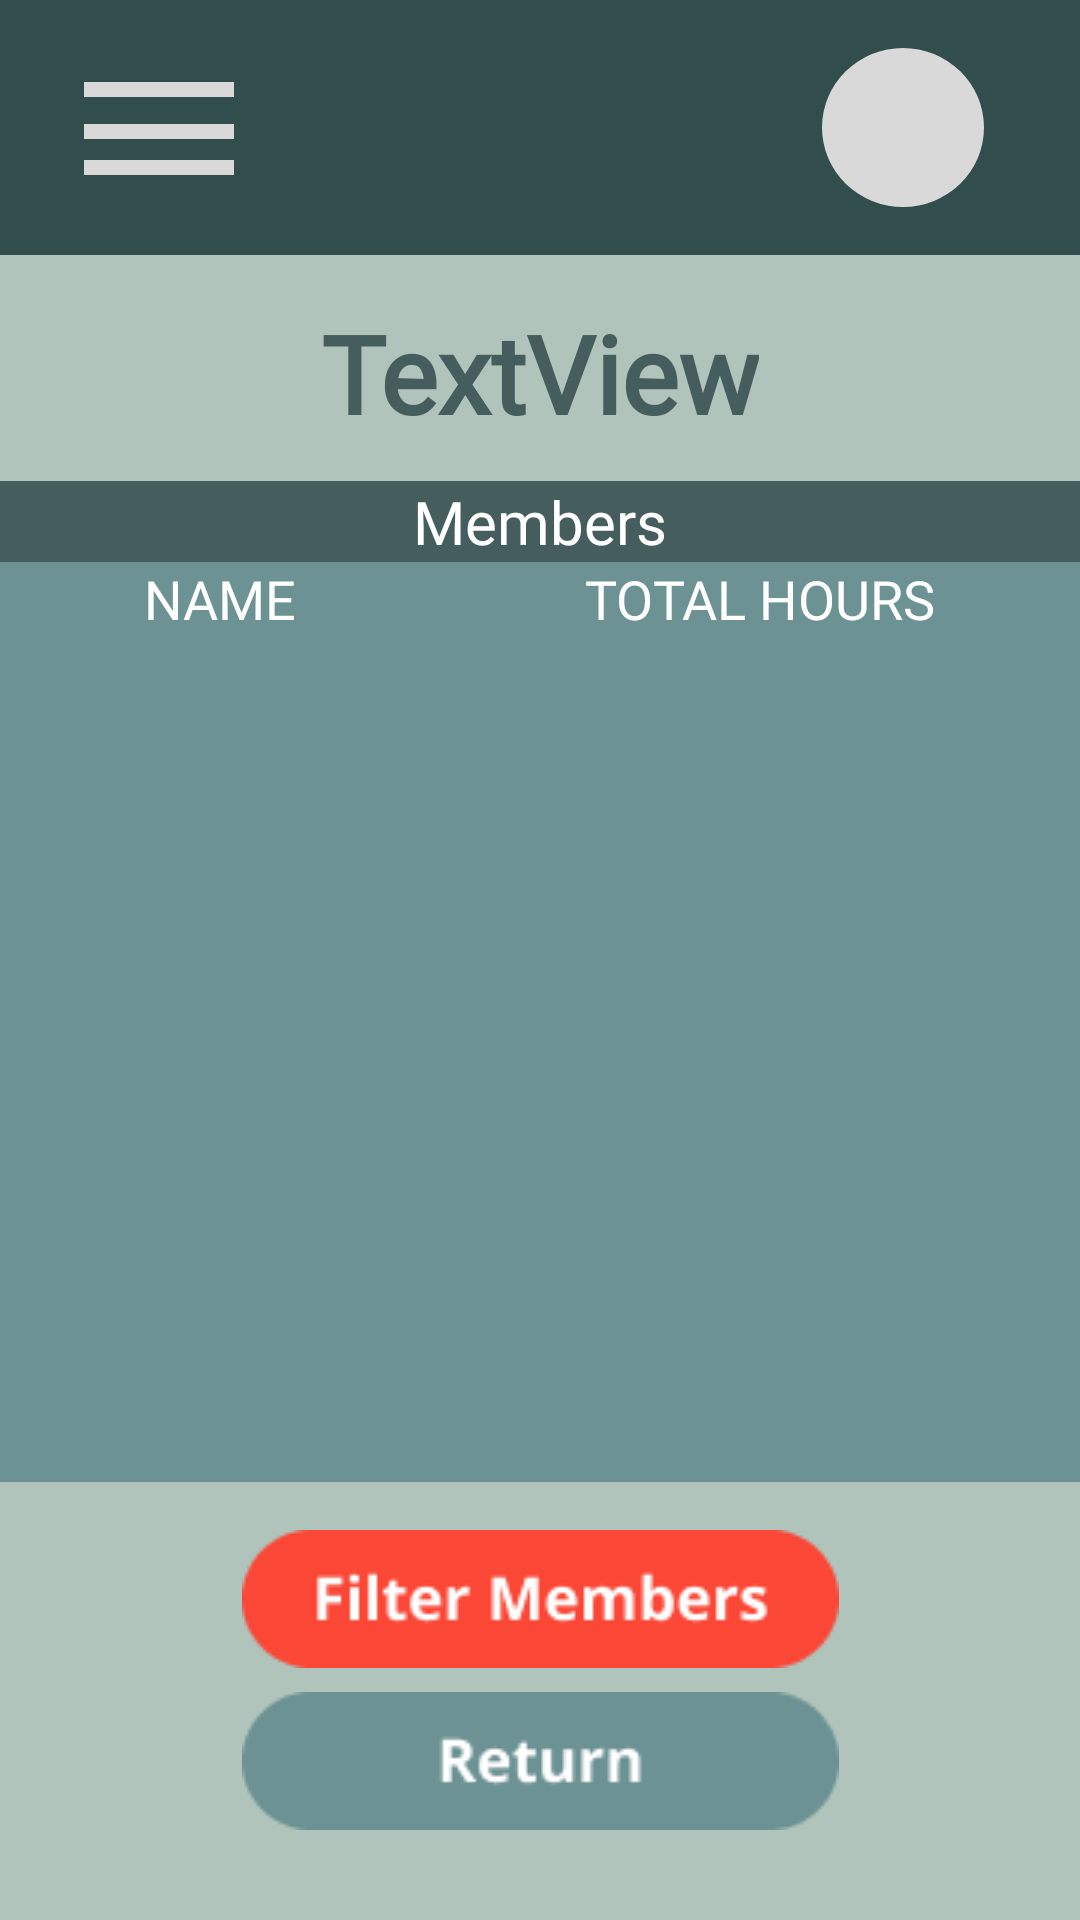

Icons on this 1080*1920 Android screen, each with the point to tap as (x,y):
menubtn: (159,128)
